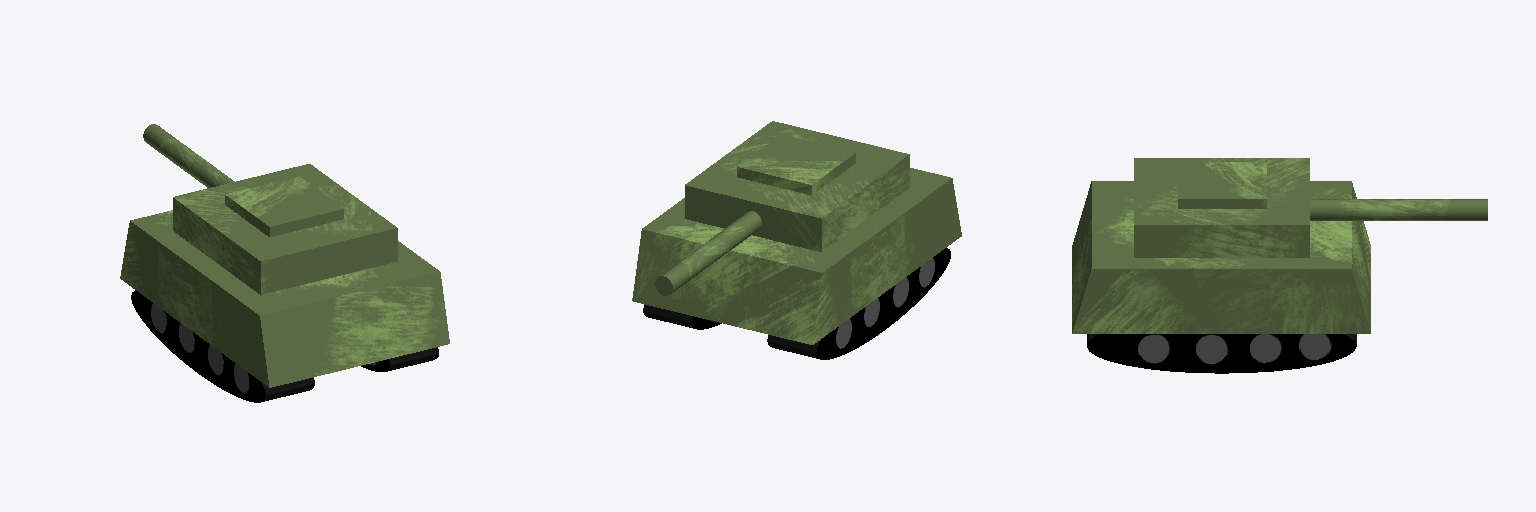
3 views of the same model, side by side, from view 1: azimuth 30°, elevation 25°; view 2: azimuth 150°, elevation 25°; view 3: azimuth 270°, elevation 25° (orthographic).
Visible parts, largest first — view 1: Vehicle, ShootingStand; view 2: Vehicle, ShootingStand; view 3: Vehicle, ShootingStand.
Boxes of the visible parts, <box> form: Vehicle: <box>120,210,449,402</box>; ShootingStand: <box>143,124,397,294</box>; Vehicle: <box>632,168,961,359</box>; ShootingStand: <box>655,121,909,295</box>; Vehicle: <box>1072,181,1370,373</box>; ShootingStand: <box>1134,158,1487,257</box>.
Bounding box in the file's own units: 2.04 × 1.62 × 4.06.
Materials: 2 (1 with a texture image).